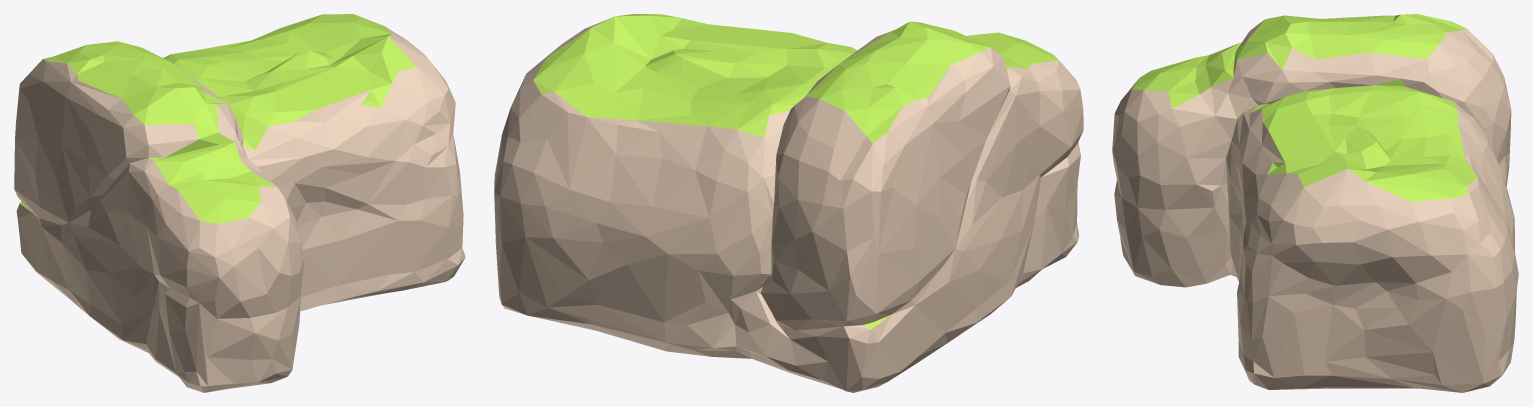
Rendered from rock_4.glb.
3 renders of one model, left to right at view 1: azimuth 30°, elevation 25°; view 2: azimuth 150°, elevation 25°; view 3: azimuth 270°, elevation 25°, orthographic. The views are drawn at different scales.
Parts seen in each view (by area): view 1: Cube.003; view 2: Cube.003; view 3: Cube.003.
Part boxes in pixels (<box>): Cube.003: <box>14,14,465,392</box>; Cube.003: <box>494,14,1083,392</box>; Cube.003: <box>1112,14,1518,392</box>.
Bounding box in the file's own units: 1.81 × 1.16 × 1.78.
1 material, 1 textured.
